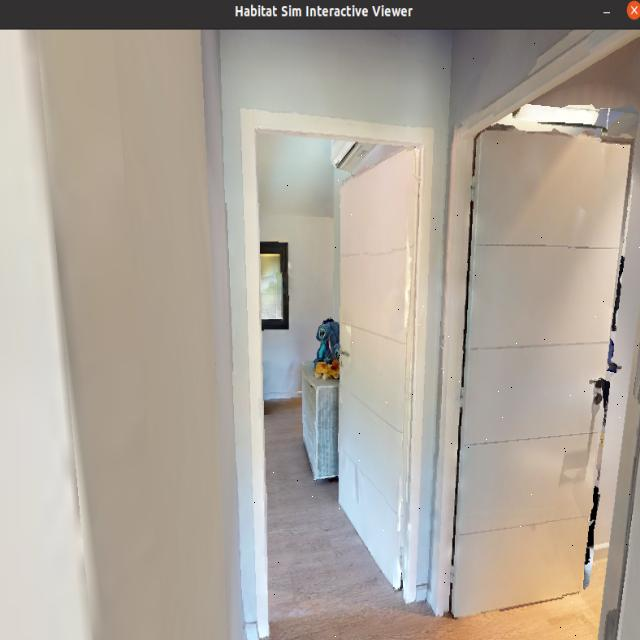door: (455, 140, 612, 592)
door-frame: (435, 42, 640, 640), (238, 110, 436, 639)
